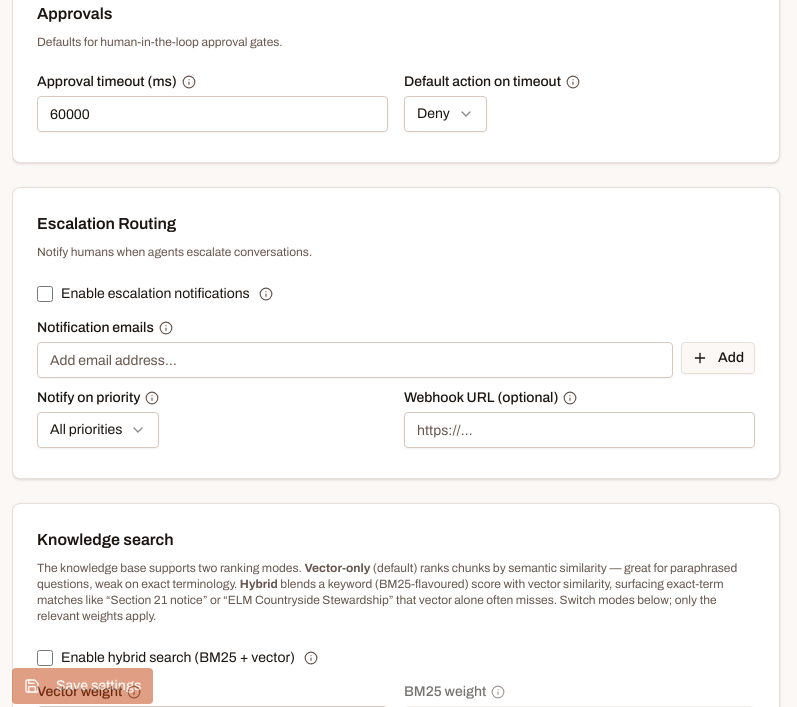
Scenario: SettingsForm › Escalation section › adds email to escalation list when Add button is clicked
The width and height of the screenshot is (797, 707).
(page scrolled)
type an email and click Add
In the field with placeholder "Add email address…": (355, 360) [37,342,673,378], type "ops@example.com"
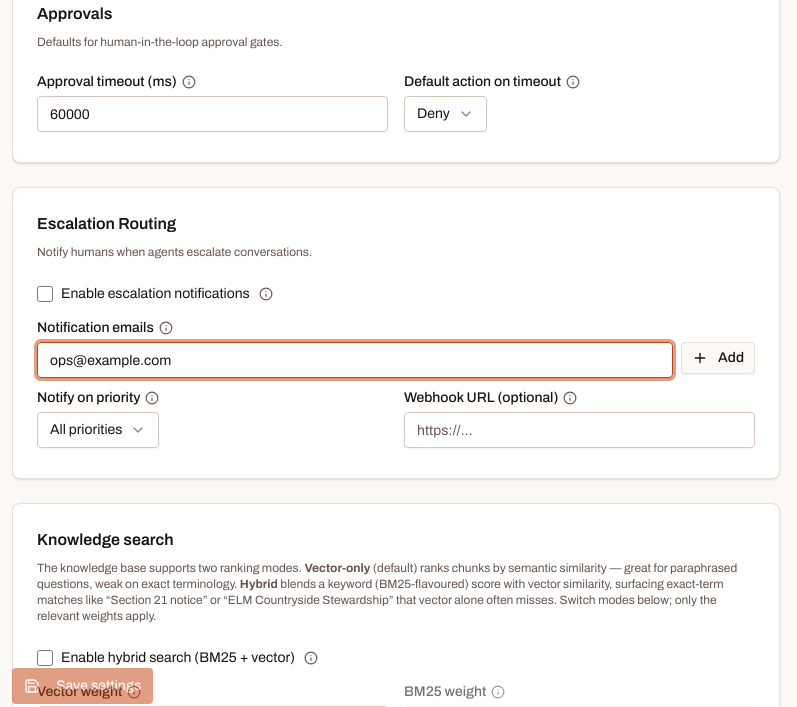
Click the button "Add": (718, 358) [681,342,755,374]
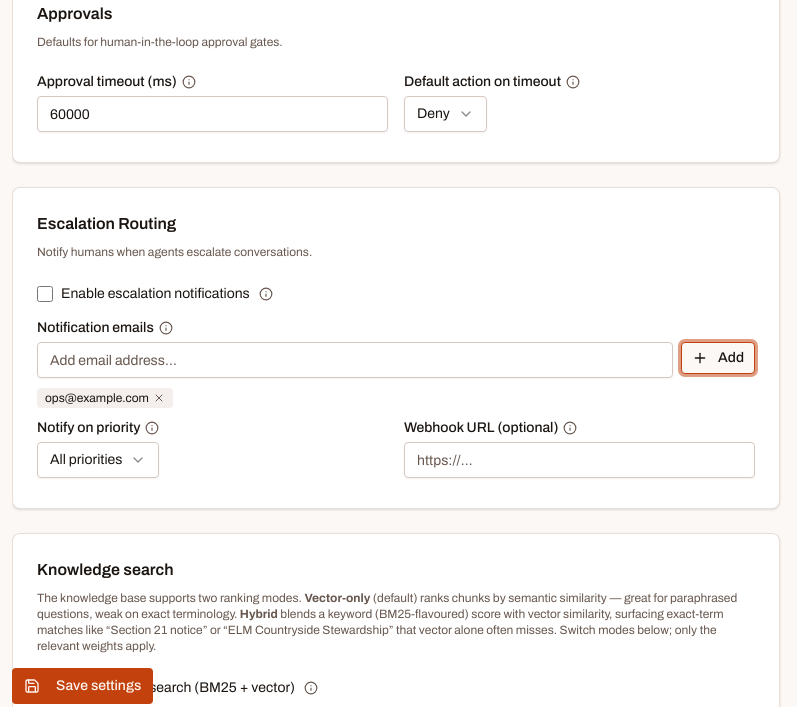
Expected: the text "ops@example.com" is shown, [37,388,173,408]
